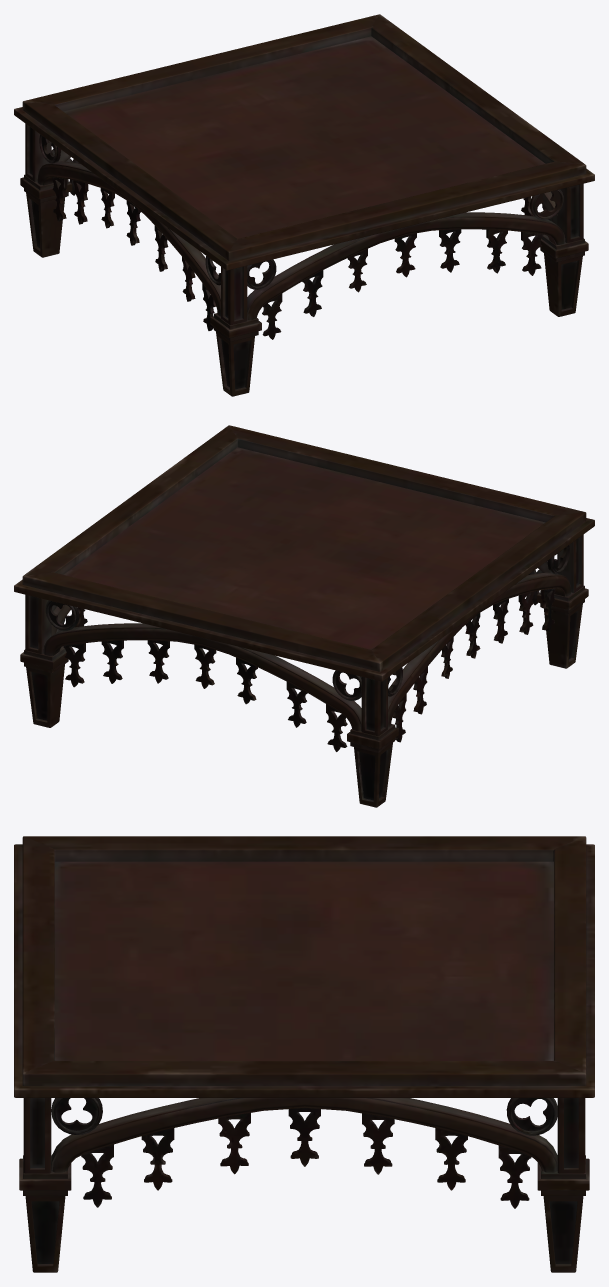
Rendered from gothic_coffee_table.glb.
The picture shows the model from 3 angles, top to bottom: view 1: azimuth 30°, elevation 25°; view 2: azimuth 150°, elevation 25°; view 3: azimuth 270°, elevation 25°; orthographic projection. The views are drawn at different scales.
Visible parts, largest first — view 1: gothic_coffee_table; view 2: gothic_coffee_table; view 3: gothic_coffee_table.
Part boxes in pixels (x1=…): gothic_coffee_table: x1=14, y1=14, x2=594, y2=396; gothic_coffee_table: x1=14, y1=425, x2=594, y2=807; gothic_coffee_table: x1=14, y1=836, x2=594, y2=1272.
Bounding box in the file's own units: 1.44 × 0.5588 × 1.44.
1 material, 1 textured.
